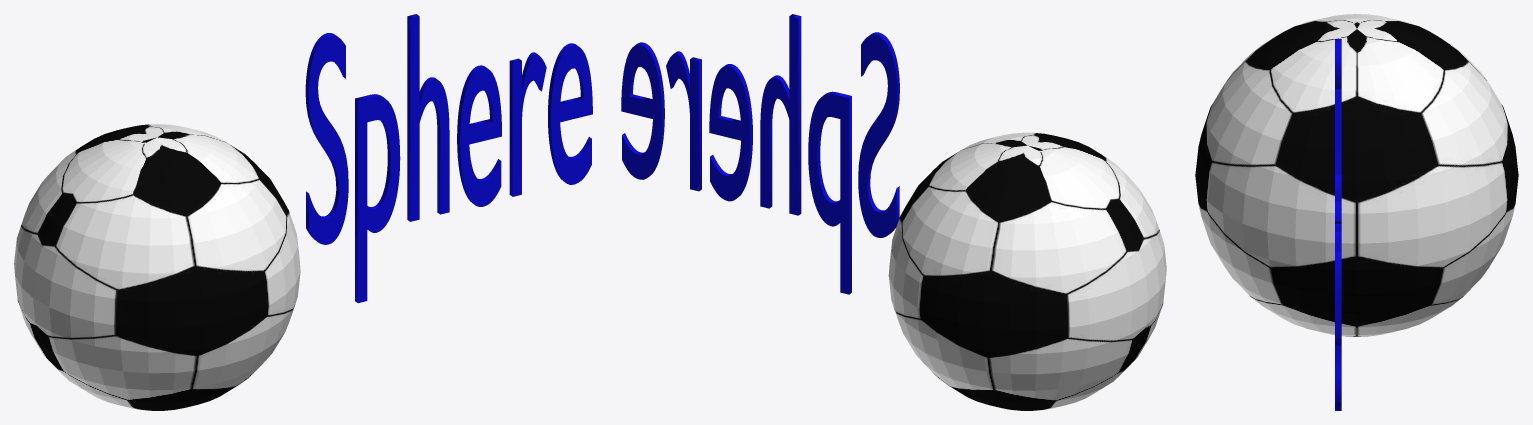
The model's file is soccerballsphere.gltf.
3 renders of one model, left to right at view 1: azimuth 30°, elevation 25°; view 2: azimuth 150°, elevation 25°; view 3: azimuth 270°, elevation 25°, orthographic. The views are drawn at different scales.
Visible parts, largest first — view 1: Sphere, Text; view 2: Sphere, Text; view 3: Sphere, Text.
Part boxes in pixels (x1,y1,x2,y2): Sphere: [14, 124, 300, 410]; Text: [305, 14, 592, 303]; Sphere: [888, 132, 1166, 410]; Text: [621, 14, 899, 294]; Sphere: [1195, 14, 1518, 336]; Text: [1335, 39, 1341, 410].
Bounding box in the file's own units: 332 × 190 × 150.
Materials: 2 (1 with a texture image).
